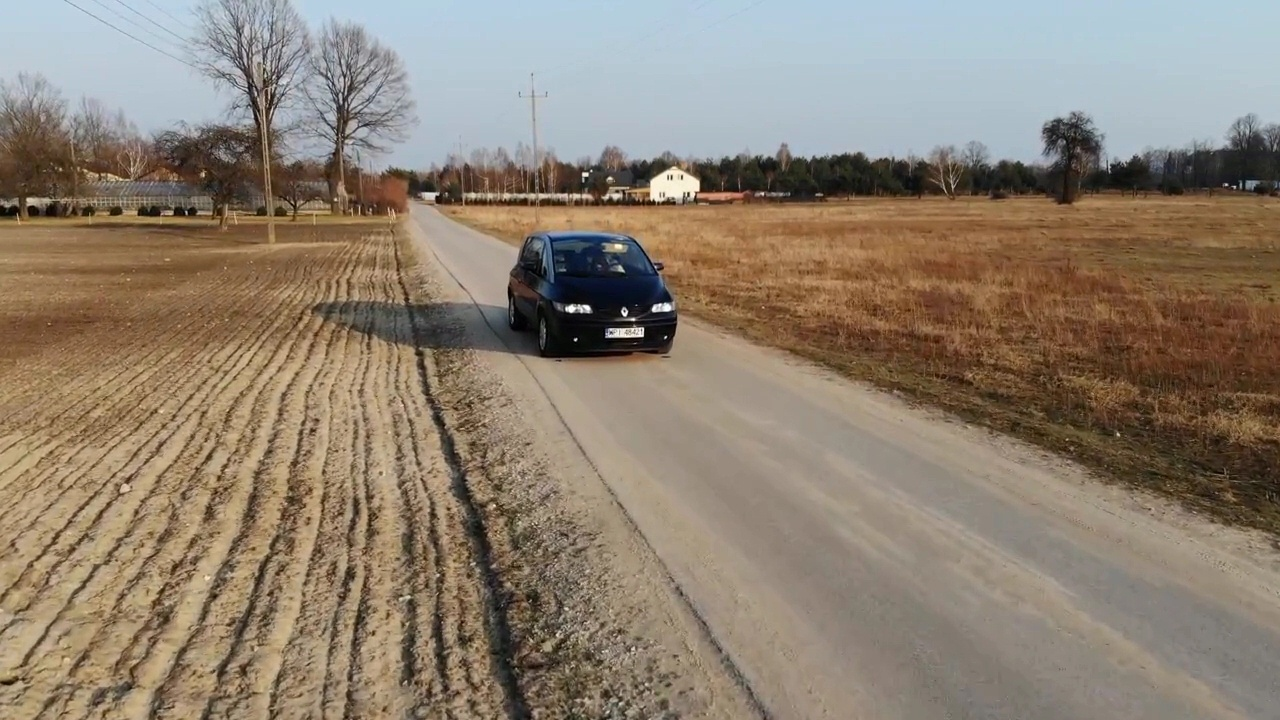araba: (506, 230, 678, 354)
